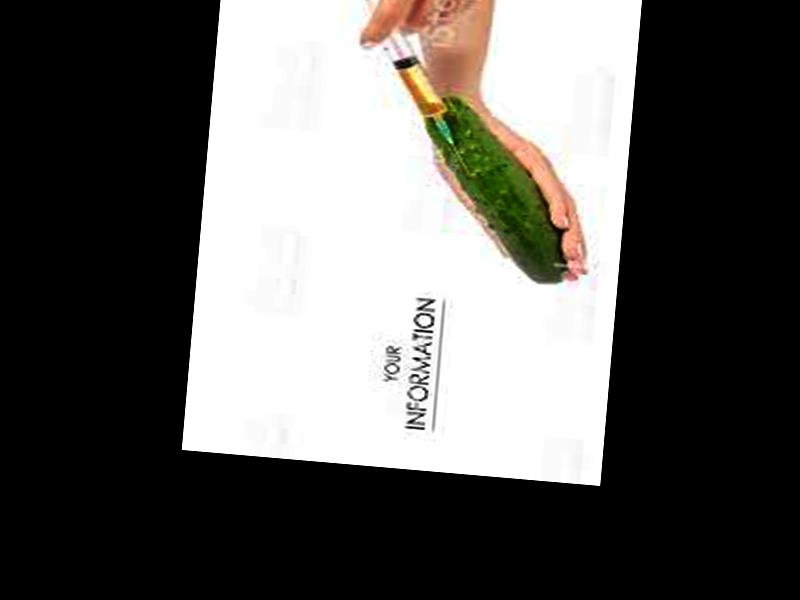Cucumber: (408, 95, 577, 283)
